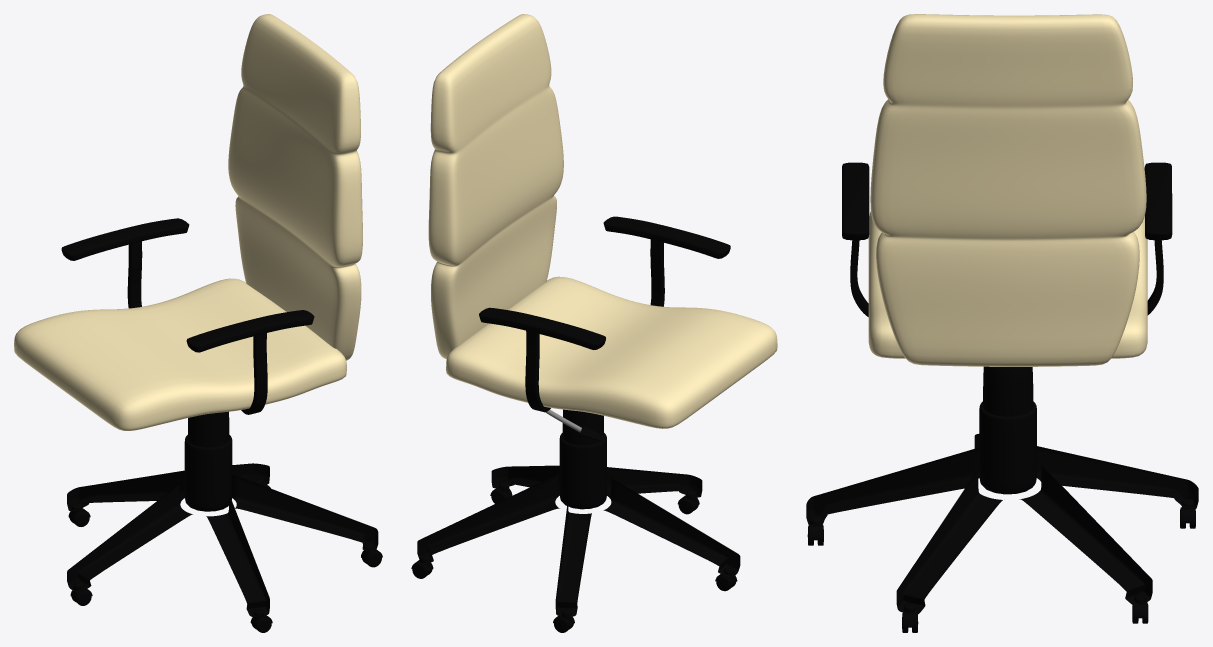
Rendered from Chair.fbx.
3 renders of one model, left to right at view 1: azimuth 30°, elevation 25°; view 2: azimuth 150°, elevation 25°; view 3: azimuth 270°, elevation 25°, orthographic. The views are drawn at different scales.
Parts seen in each view (by area): view 1: under; view 2: under; view 3: under.
Boxes of the visible parts, bbox=[...] form: under: bbox=[14, 14, 382, 632]; under: bbox=[411, 14, 777, 632]; under: bbox=[806, 14, 1198, 632].
Bounding box in the file's own units: 7.93 × 13.6 × 8.03.
